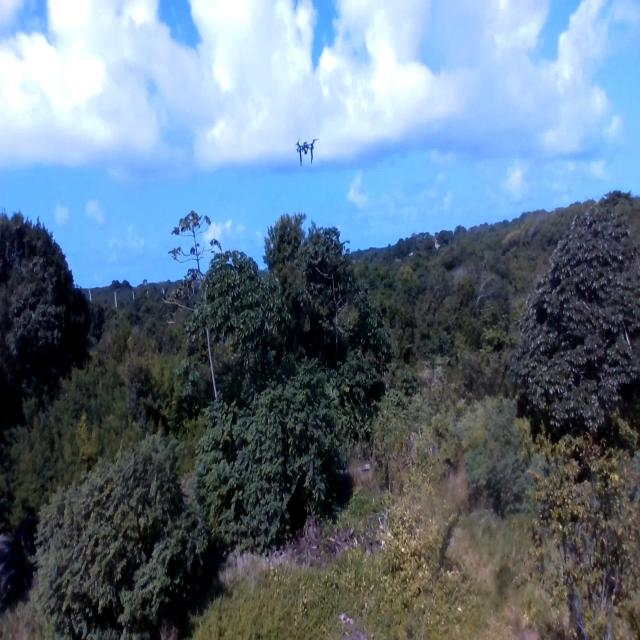-uav-: (290, 126, 323, 182)
